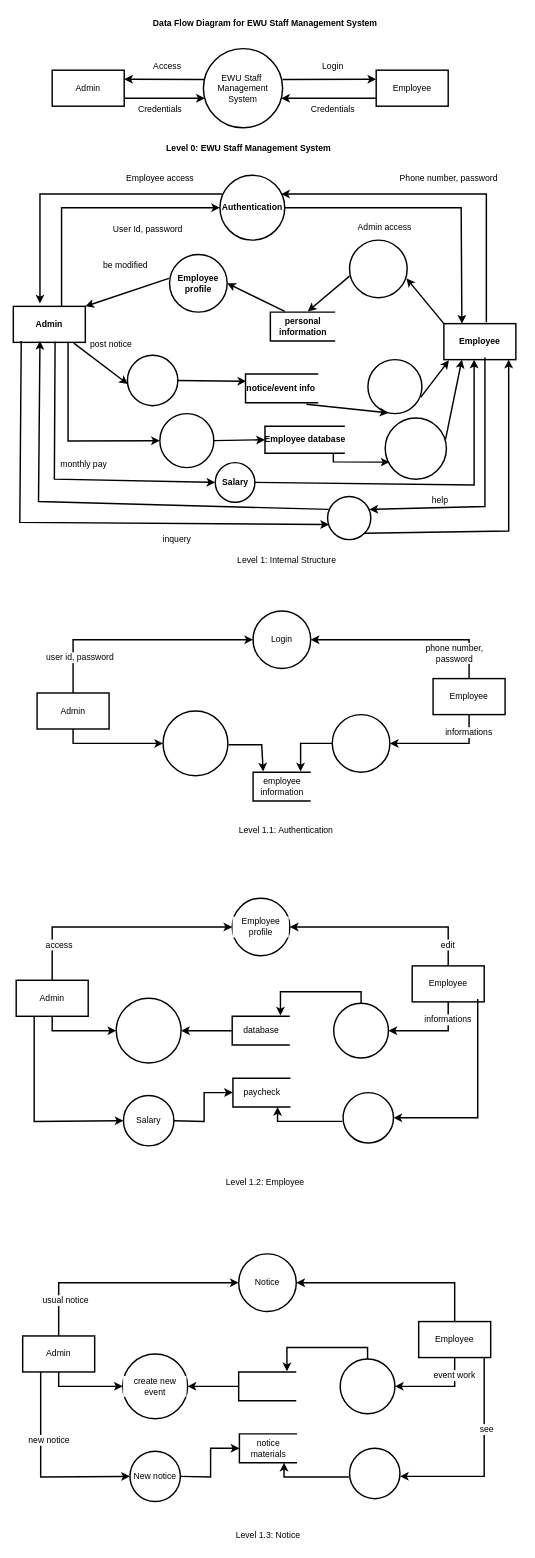
Image size: 535x1558. Some labels were removed from this diagram. The centre of each missing label's shape, as x and y in pixels:
"Add, delete, update, sort" belongs at [186,440].
"be notified" belongs at [394,386].
"Contact" belongs at [349,517].
"Create account" belongs at [195,743].
"event detailes" belongs at [267,1386].
"follow" belongs at [374,1473].
"manage" belongs at [148,1030].
"provide credentials" belongs at [378,268].
"submission" belongs at [360,743].
"take preparations" belongs at [367,1386].
"update notices and Events" belongs at [152,380].
"view" belongs at [361,1030].
"view working days, salary" belongs at [415,448].
"Workhour" belongs at [368,1117].
